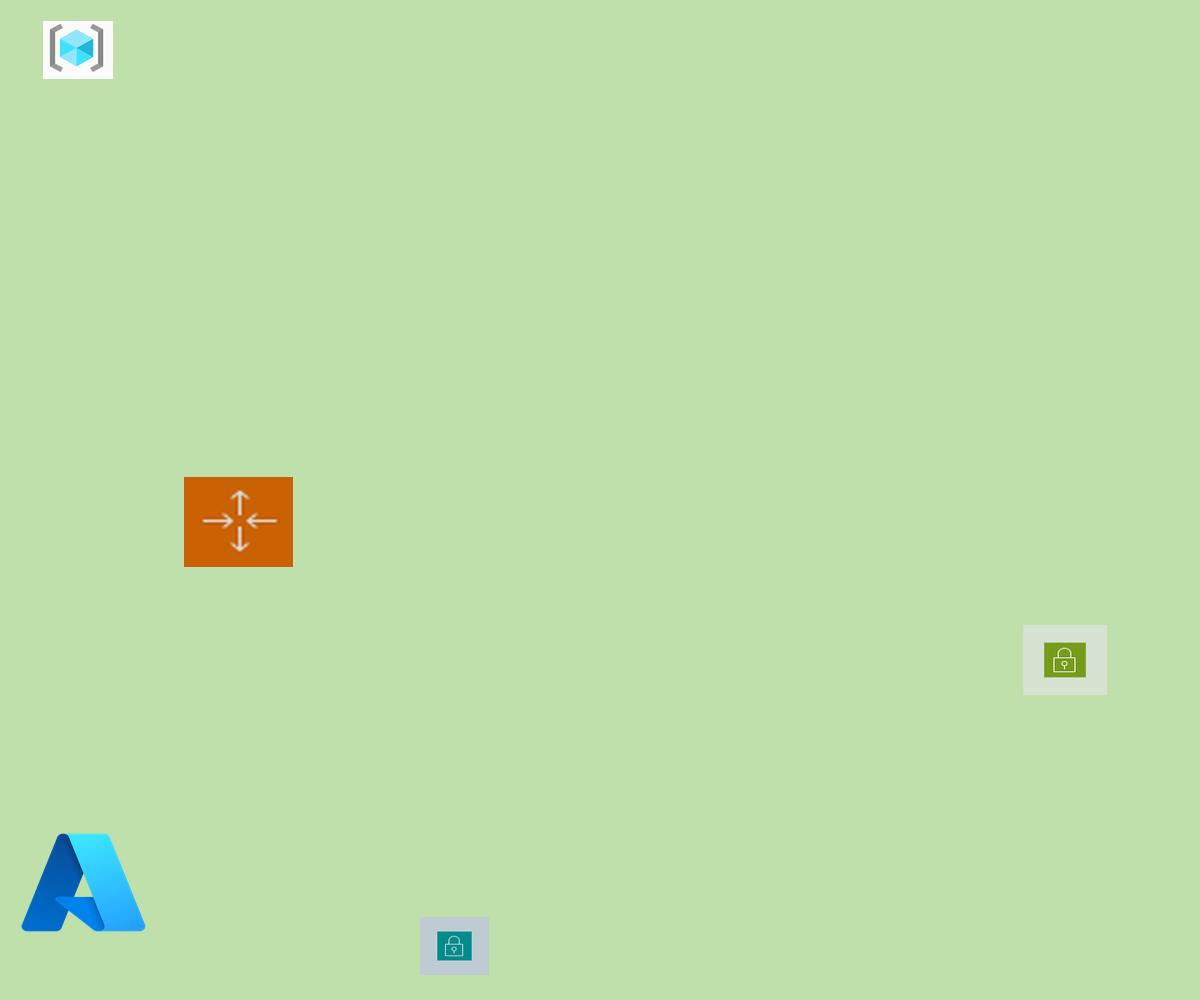AWS-Private-subnet: (420, 917, 489, 975)
AWS-Public-subnet: (1023, 625, 1107, 695)
AWS-Scaling-group: (184, 477, 293, 567)
Azure_resource_group: (43, 21, 113, 79)
Azure_services: (16, 826, 151, 939)
